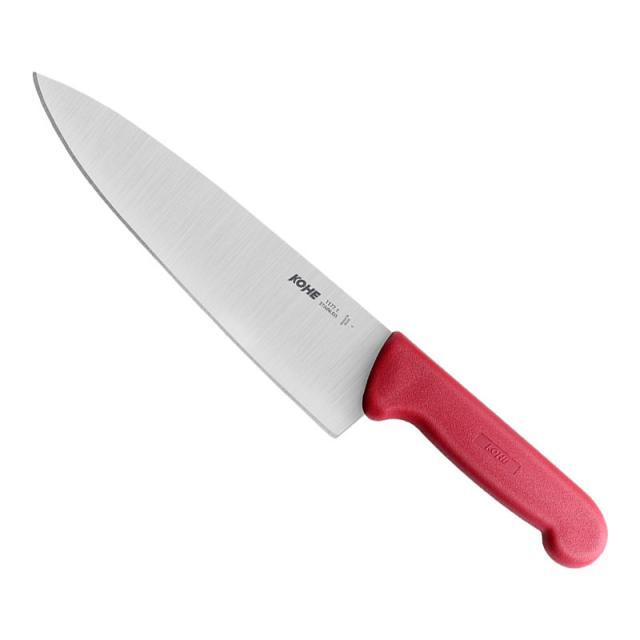knife: (32, 71, 609, 564)
